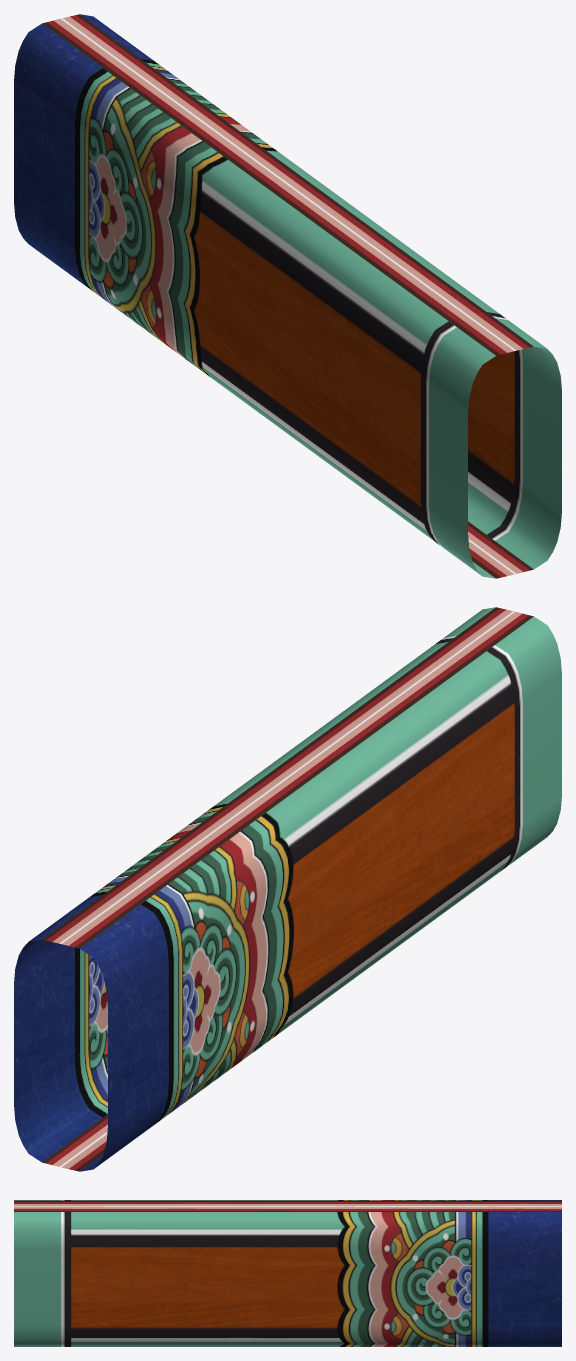
Rendered from SM_Beam08Q.fbx.
The picture shows the model from 3 angles, top to bottom: view 1: azimuth 30°, elevation 25°; view 2: azimuth 150°, elevation 25°; view 3: azimuth 270°, elevation 25°; orthographic projection. The views are drawn at different scales.
Parts seen in each view (by area): view 1: SM_Beam08Q; view 2: SM_Beam08Q; view 3: SM_Beam08Q.
Boxes of the visible parts, x1,y1,x2,y2 form: SM_Beam08Q: [14, 14, 561, 578]; SM_Beam08Q: [14, 607, 561, 1171]; SM_Beam08Q: [14, 1200, 561, 1346].
Size of the model in its own units: 16.7 by 140 by 37.99.
